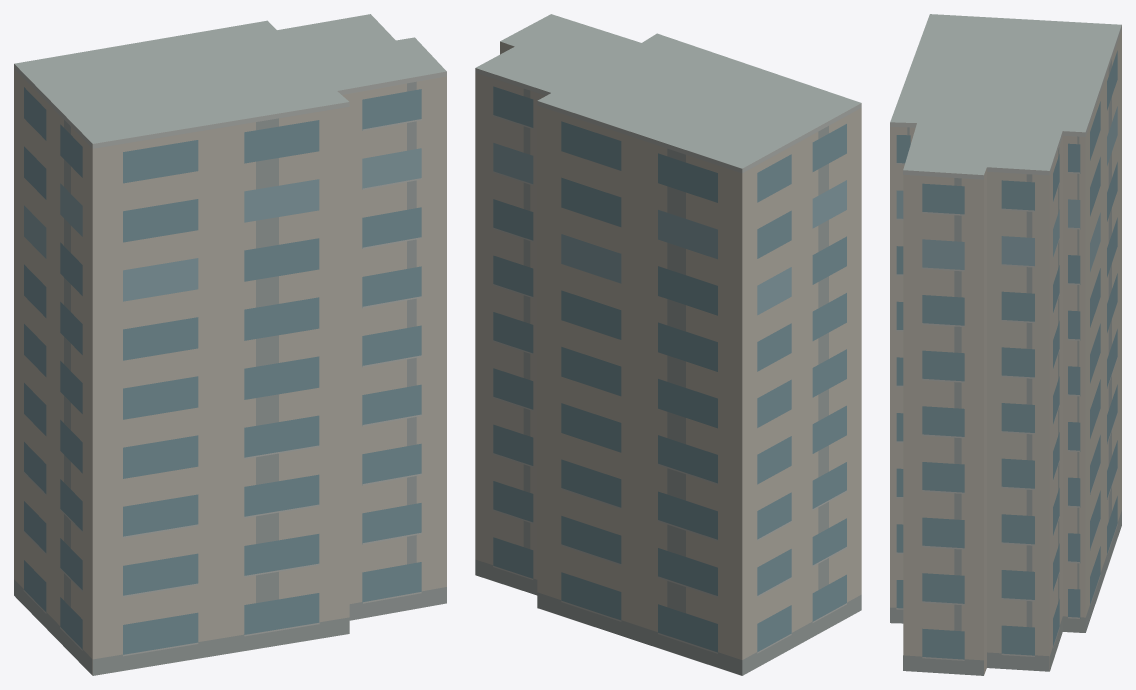
Rendered from survey-upis-32829447.glb.
3 renders of one model, left to right at view 1: azimuth 30°, elevation 25°; view 2: azimuth 150°, elevation 25°; view 3: azimuth 270°, elevation 25°, orthographic. The views are drawn at different scales.
Visible parts, largest first — view 1: survey-upis-32829447.tmp; view 2: survey-upis-32829447.tmp; view 3: survey-upis-32829447.tmp.
Boxes of the visible parts, x1=… form: survey-upis-32829447.tmp: x1=14, y1=14, x2=446, y2=675; survey-upis-32829447.tmp: x1=475, y1=14, x2=861, y2=675; survey-upis-32829447.tmp: x1=890, y1=14, x2=1121, y2=675.
Size of the model in its own units: 18.44 by 26.7 by 11.21.
